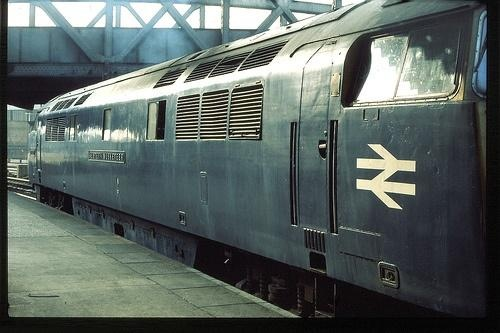train: (29, 1, 488, 319)
